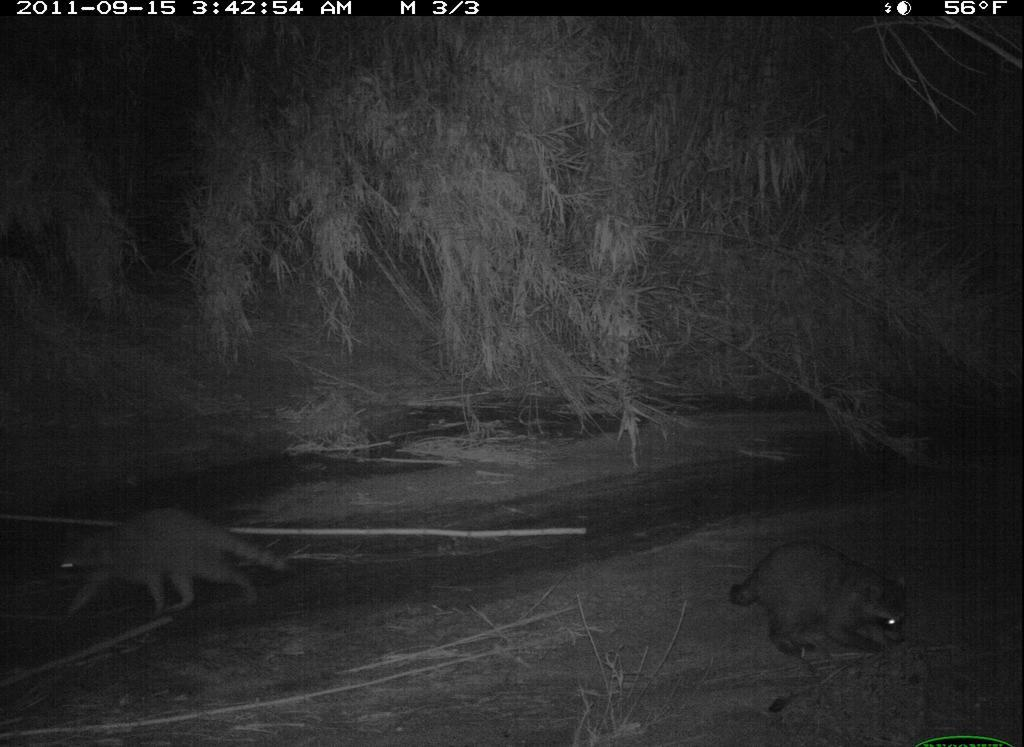raccoon: (39, 501, 309, 634), (725, 536, 917, 666)
